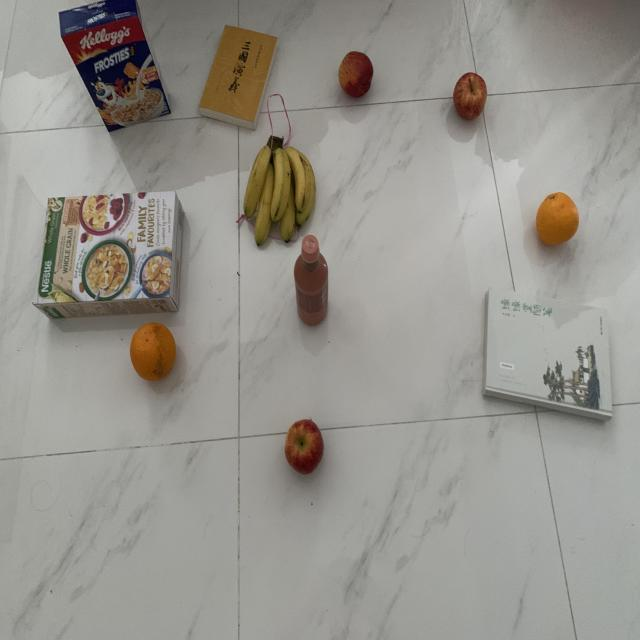Apple: (279, 419, 328, 478), (451, 71, 491, 125), (336, 48, 377, 99)
Banana: (242, 135, 318, 249)
Book: (482, 288, 618, 428), (197, 23, 279, 132)
Cerealbox: (32, 187, 185, 322), (57, 0, 174, 137)
Orange: (127, 322, 179, 384), (534, 192, 584, 254)
